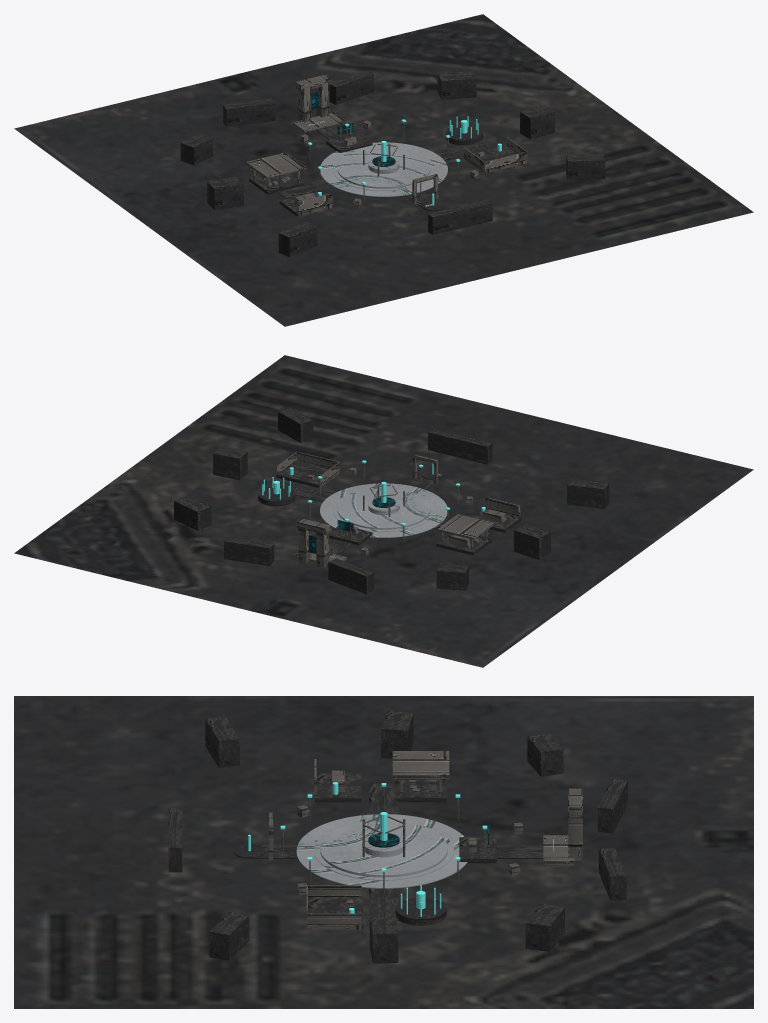
The model's file is Hub.fbx.
The picture shows the model from 3 angles, top to bottom: view 1: azimuth 30°, elevation 25°; view 2: azimuth 150°, elevation 25°; view 3: azimuth 270°, elevation 25°; orthographic projection. The views are drawn at different scales.
Parts seen in each view (by area): view 1: Ground, Central_Plaza, Plaza_Ring, Barrier_Rock_9, Barrier_Rock_4, Barrier_Rock_2, Barrier_Rock_5, Barrier_Rock_1, Barrier_Rock_6, Barrier_Rock_8, Barrier_Rock_7, Shop_Roof (+8 smaller); view 2: Ground, Central_Plaza, Plaza_Ring, Barrier_Rock_9, Barrier_Rock_5, Barrier_Rock_1, Barrier_Rock_4, Barrier_Rock_2, Barrier_Rock_6, Barrier_Rock_7, Shop_Roof, Barrier_Rock_8 (+4 smaller); view 3: Ground, Central_Plaza, Plaza_Ring, Shop_Roof, Barrier_Rock_6, Barrier_Rock_8, Barrier_Rock_1, Barrier_Rock_3, Barrier_Rock_7, Barrier_Rock_2, Barrier_Rock_4, Barrier_Rock_5 (+14 smaller).
Part boxes in pixels (x1,y1,x2,y2): Ground: (14,14,753,326); Central_Plaza: (337,147,430,188); Plaza_Ring: (320,142,447,196); Barrier_Rock_9: (428,199,492,235); Barrier_Rock_4: (223,98,275,127); Barrier_Rock_2: (207,176,243,210); Barrier_Rock_5: (329,70,373,105); Barrier_Rock_1: (278,221,317,257); Barrier_Rock_6: (437,71,476,100); Barrier_Rock_8: (566,153,605,180); Barrier_Rock_7: (520,105,554,139); Shop_Roof: (246,152,306,178); Ground: (14,355,753,667); Central_Plaza: (337,488,430,529); Plaza_Ring: (320,483,447,537); Barrier_Rock_9: (428,428,492,464); Barrier_Rock_5: (224,536,274,565); Barrier_Rock_1: (567,478,609,508); Barrier_Rock_4: (328,558,374,594); Barrier_Rock_2: (514,524,550,559); Barrier_Rock_6: (174,495,211,530); Barrier_Rock_7: (213,446,247,480); Shop_Roof: (434,513,494,539); Barrier_Rock_8: (278,407,313,442); Ground: (14,696,753,1008); Central_Plaza: (320,821,447,877); Plaza_Ring: (296,814,467,888); Shop_Roof: (392,751,449,780); Barrier_Rock_6: (525,903,564,951); Barrier_Rock_8: (209,912,249,960); Barrier_Rock_1: (205,717,239,767); Barrier_Rock_3: (527,733,563,776); Barrier_Rock_7: (369,916,398,963); Barrier_Rock_2: (381,711,413,758); Barrier_Rock_4: (597,779,627,833); Barrier_Rock_5: (599,847,626,900).
Bounding box in the file's own units: 11000 × 880 × 11000.
